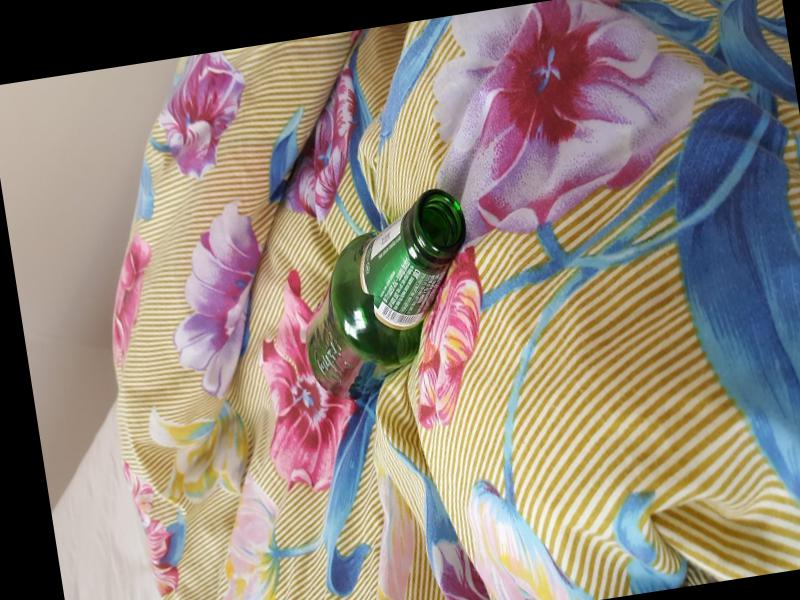Beer: (285, 182, 491, 405)
